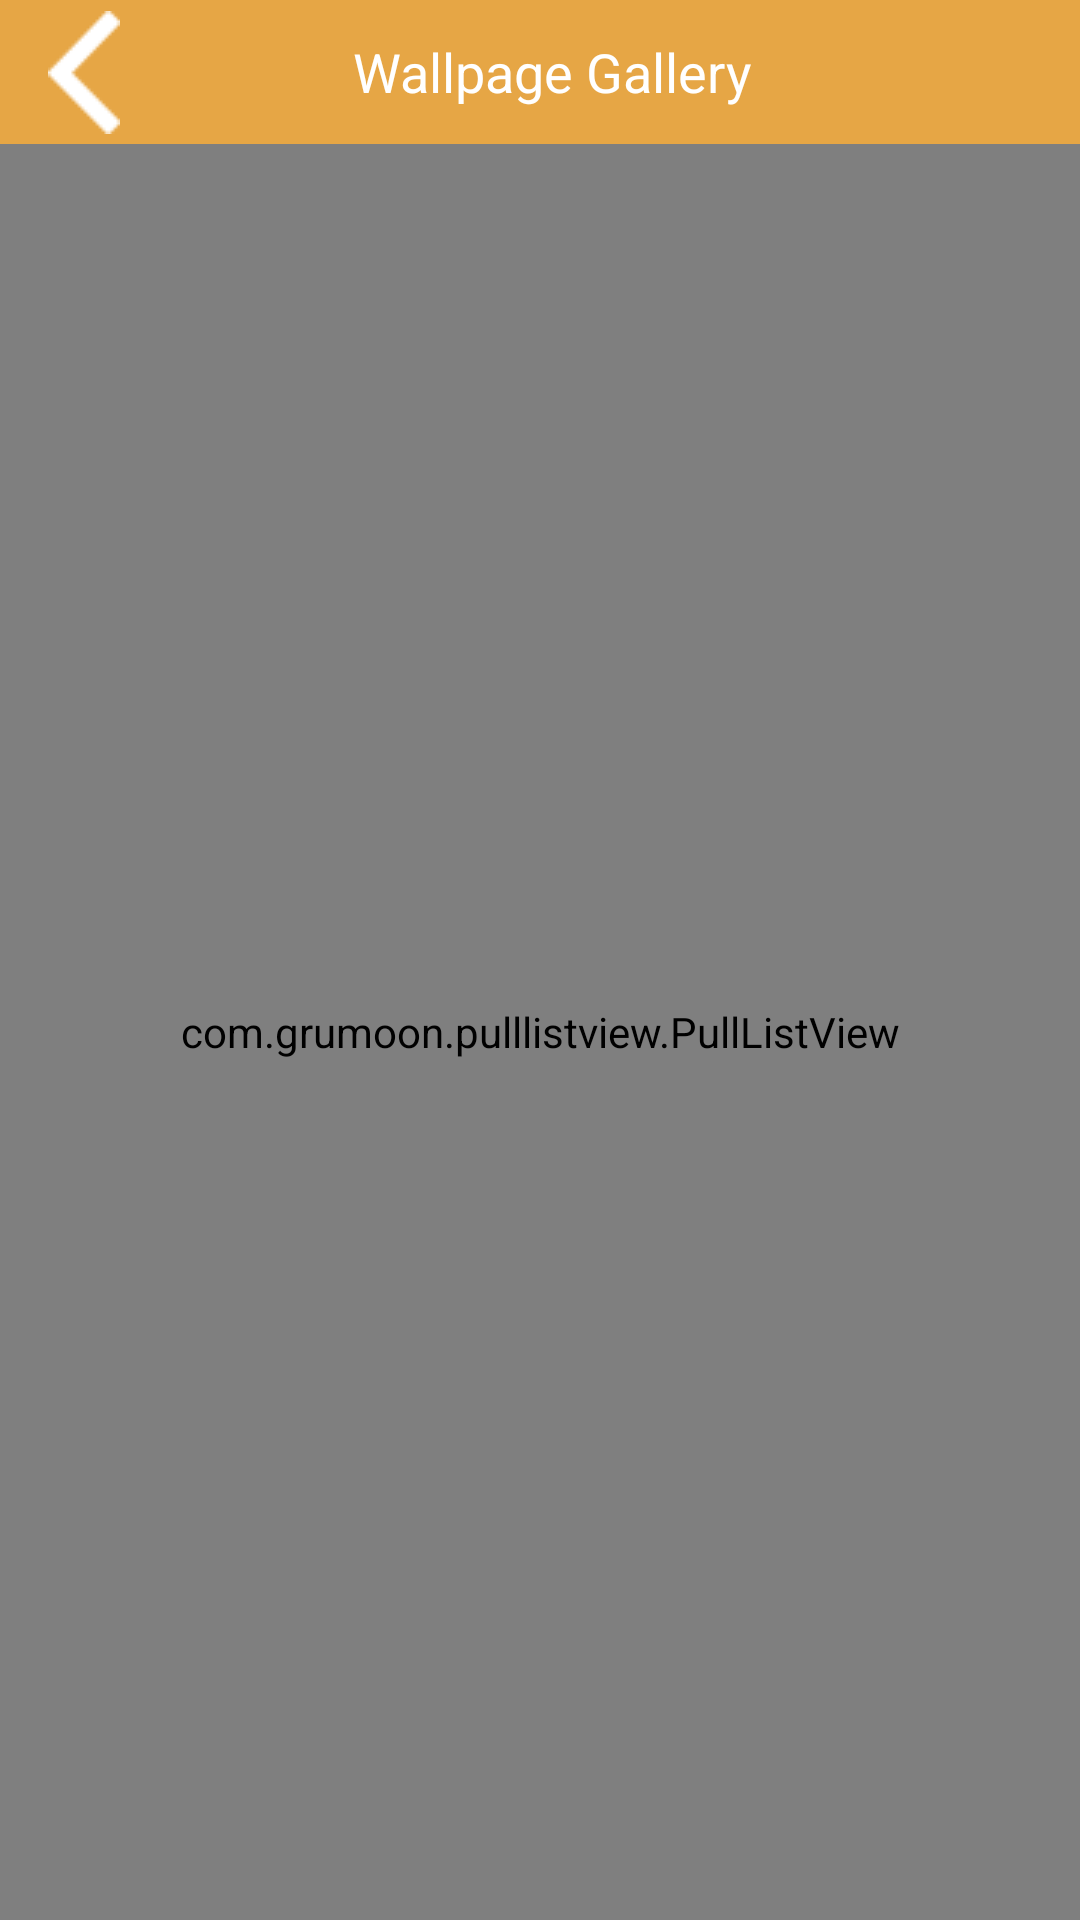

Screen size 1080*1920. Icon name, then its box in pixels as (x1, y1, x2, y2):
back common: (48, 11, 120, 134)
